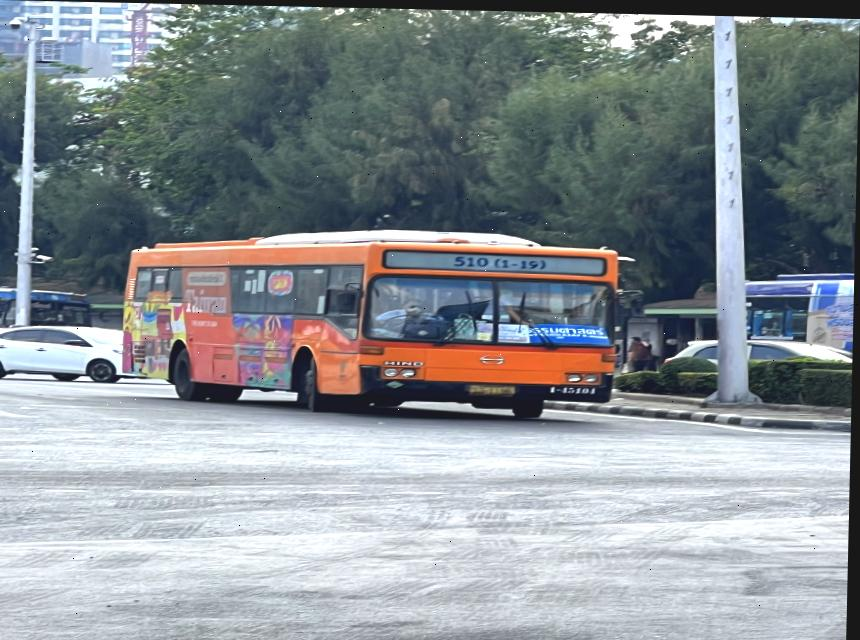BMTA-bus: (120, 229, 626, 418)
Bus Line Number: (440, 251, 560, 274)
Bus Side Number: (542, 381, 605, 394)
Destination Sign: (529, 322, 613, 342)
